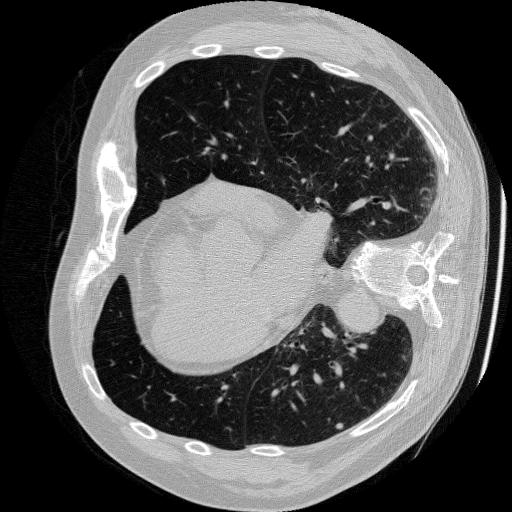nodule: (333, 418, 346, 431)
